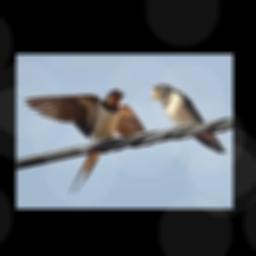Swallow: (25, 90, 147, 193), (151, 85, 229, 154)
